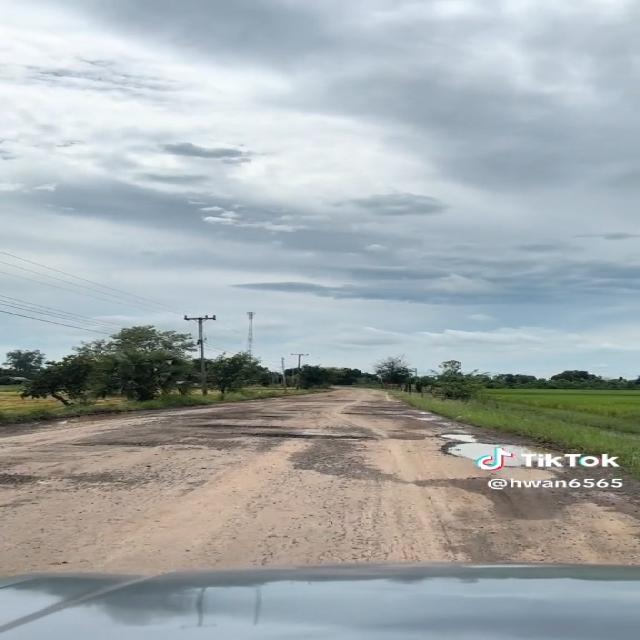Poth-hole: (254, 470, 478, 550)
